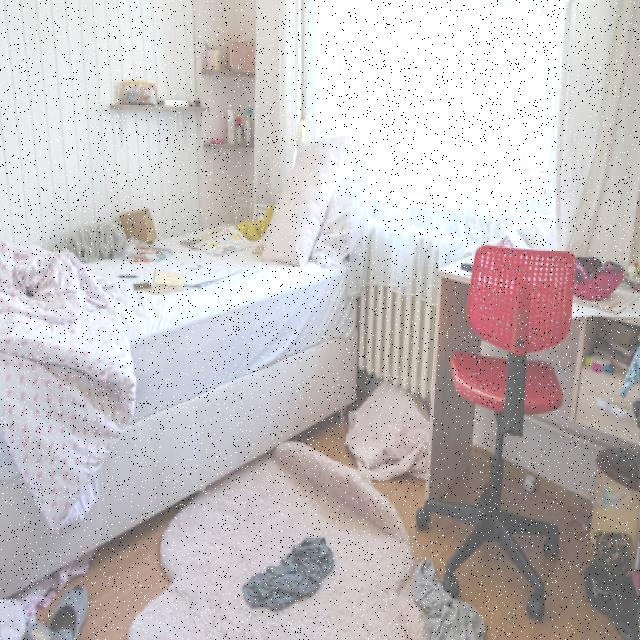bed: (0, 122, 365, 556)
